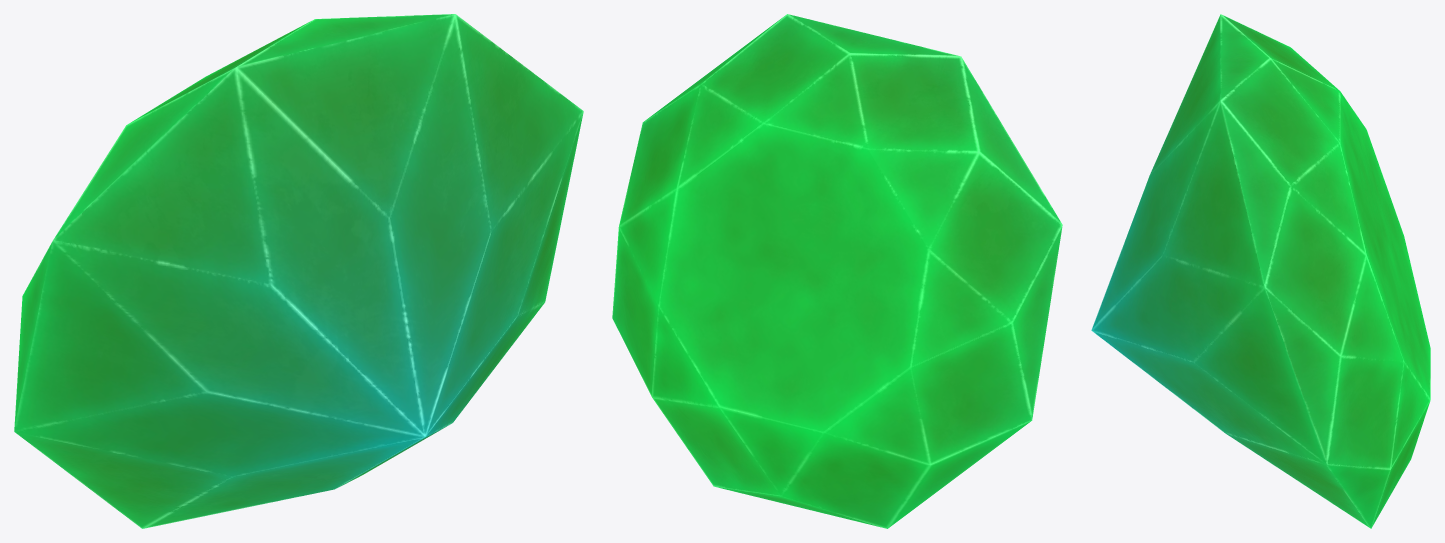
File: gema.glb
3 renders of one model, left to right at view 1: azimuth 30°, elevation 25°; view 2: azimuth 150°, elevation 25°; view 3: azimuth 270°, elevation 25°, orthographic. The views are drawn at different scales.
Parts seen in each view (by area): view 1: Object_7; view 2: Object_7; view 3: Object_7.
Boxes of the visible parts, x1,y1,x2,y2 form: Object_7: [14, 14, 583, 528]; Object_7: [612, 14, 1062, 528]; Object_7: [1091, 14, 1430, 528].
Bounding box in the file's own units: 1.53 × 1.46 × 1.05.
1 material, 1 textured.
